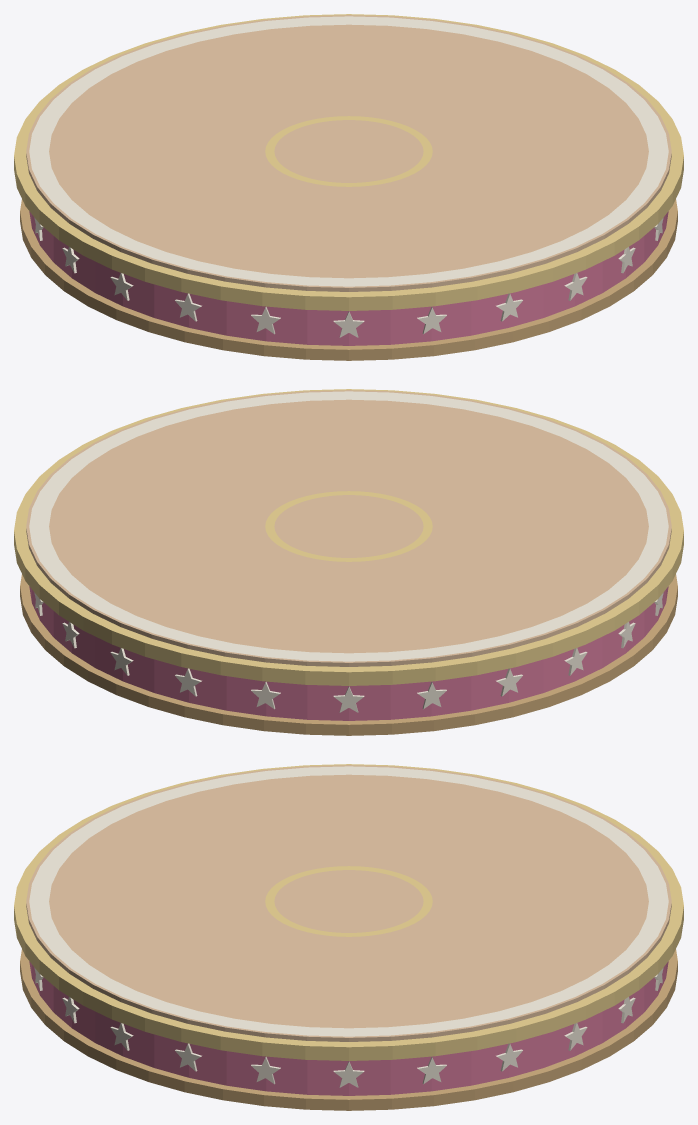
Rendered from carrusel_base.glb.
3 renders of one model, top to bottom at view 1: azimuth 30°, elevation 25°; view 2: azimuth 150°, elevation 25°; view 3: azimuth 270°, elevation 25°, orthographic.
Visible parts, largest first — view 1: carrusel_base; view 2: carrusel_base; view 3: carrusel_base.
Part boxes in pixels (box(x1,y1,x2,y2)): carrusel_base: box(14, 14, 683, 360); carrusel_base: box(14, 389, 683, 735); carrusel_base: box(14, 764, 683, 1110).
Bounding box in the file's own units: 4.4 × 0.53 × 4.4.
